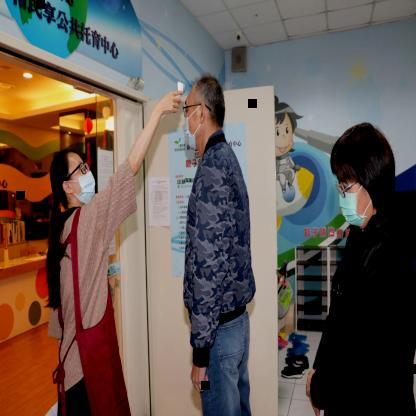mask: (324, 121, 400, 235), (178, 72, 232, 153), (48, 147, 100, 212)
